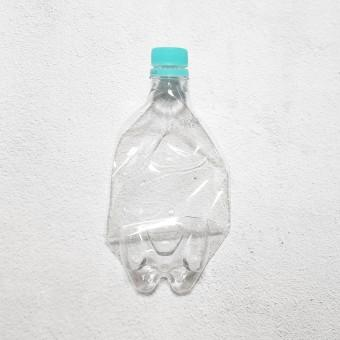bottle: (103, 47, 232, 296)
